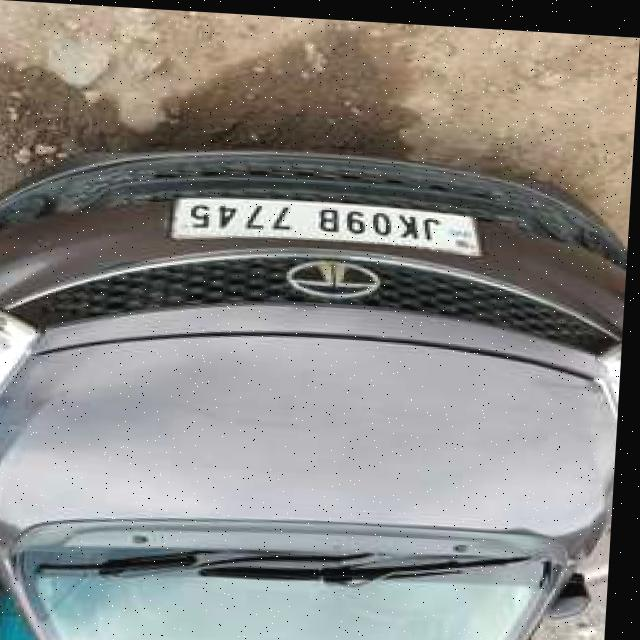plate: (172, 189, 491, 254)
